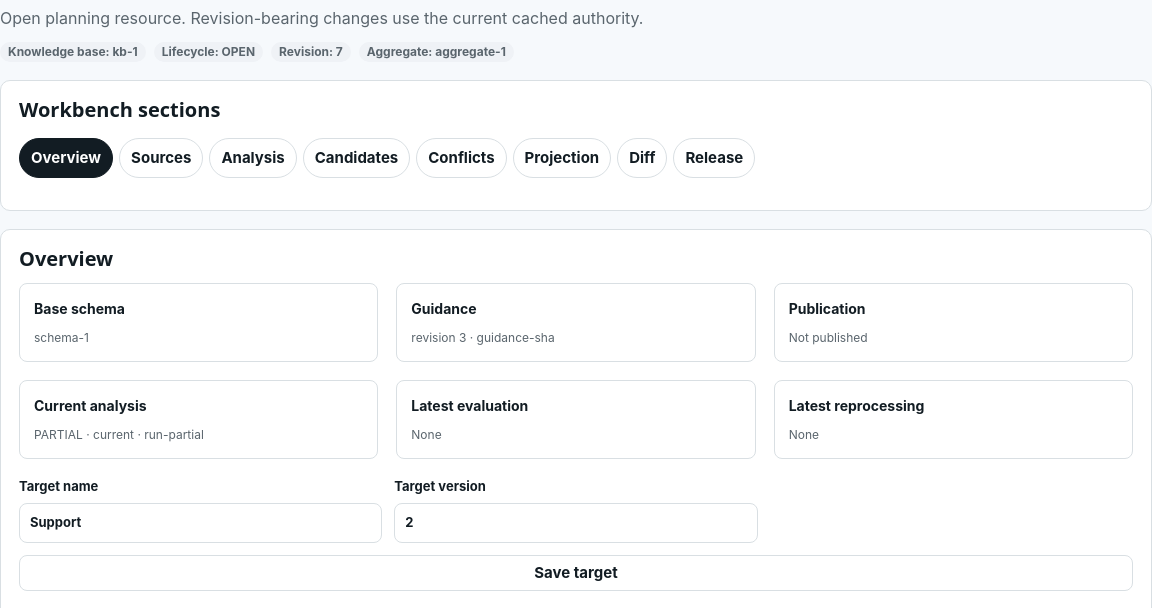
it: SchemaDraftsPage › shows captured budgets and detailed deadline failure diagnostics
The image size is (1152, 608).
Click the tab "Analysis": point(253, 158) [209, 138, 297, 178]
(page scrolled)
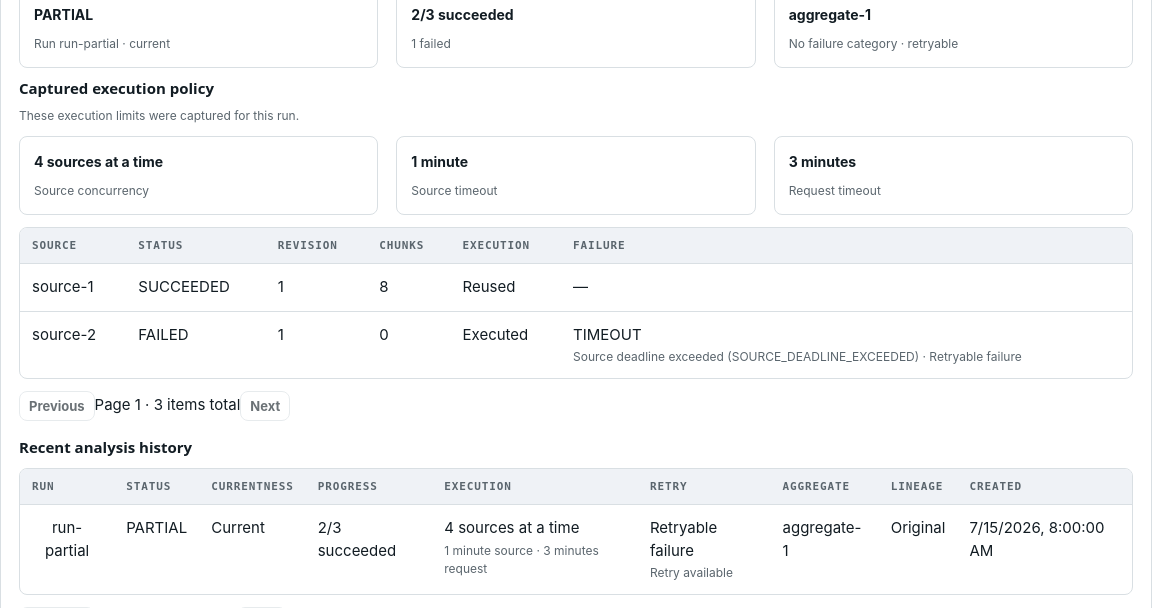
Now the text "4 sources at a time" is shown, box [34, 153, 163, 170]
Now the text "1 minute" is shown, box [411, 153, 468, 170]
Now the text "3 minutes" is shown, box [789, 153, 856, 170]
